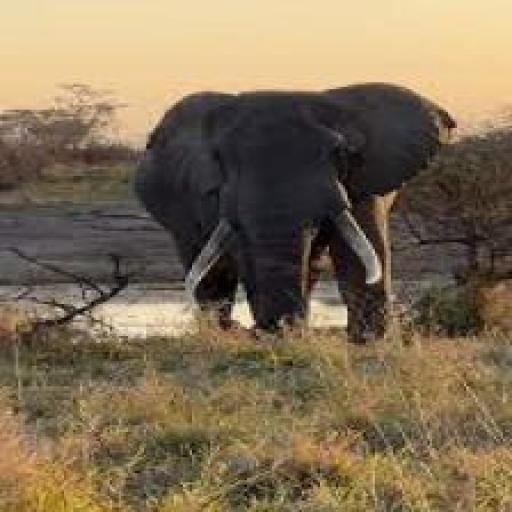Elephant: (137, 83, 452, 342)
